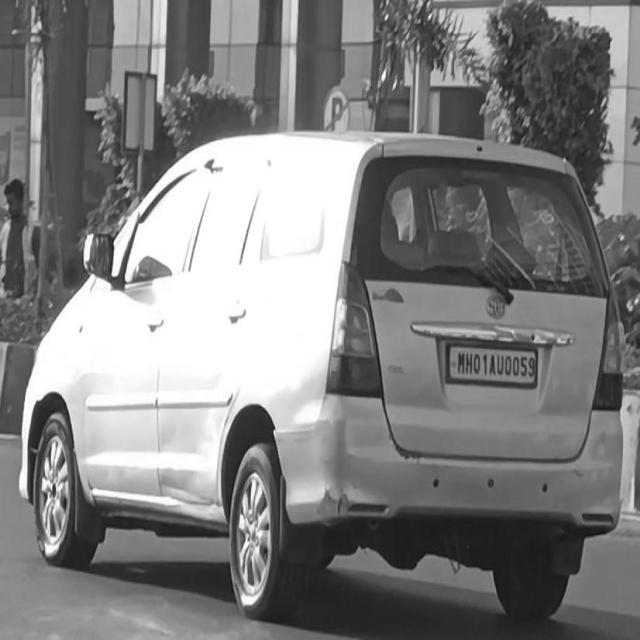car: (17, 122, 634, 608)
license-plate: (446, 338, 538, 384)
